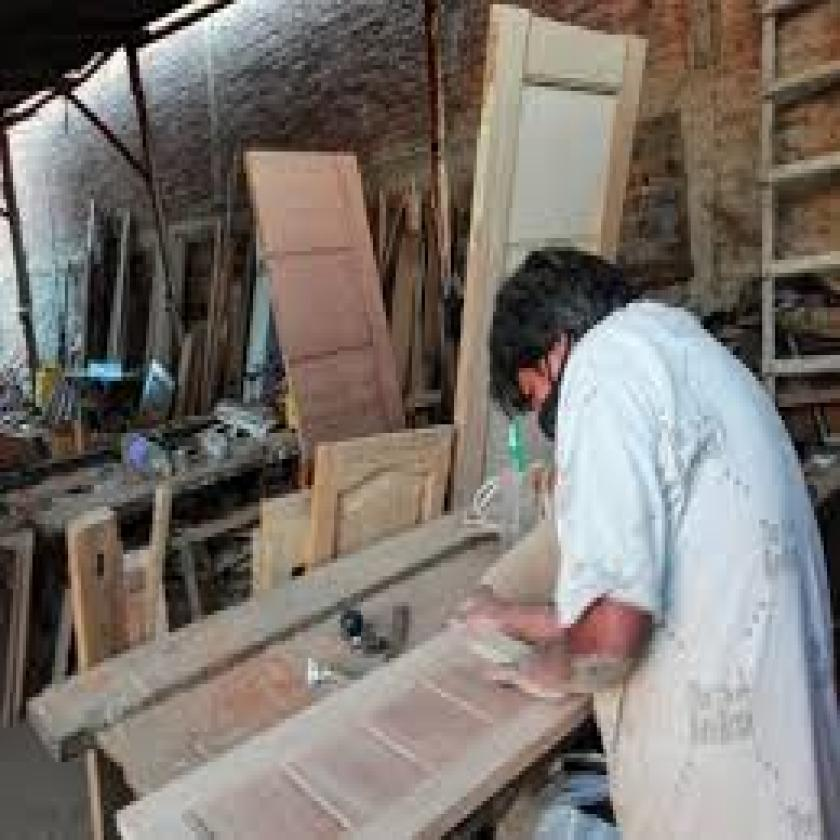Sin_casco: (478, 235, 627, 461)
